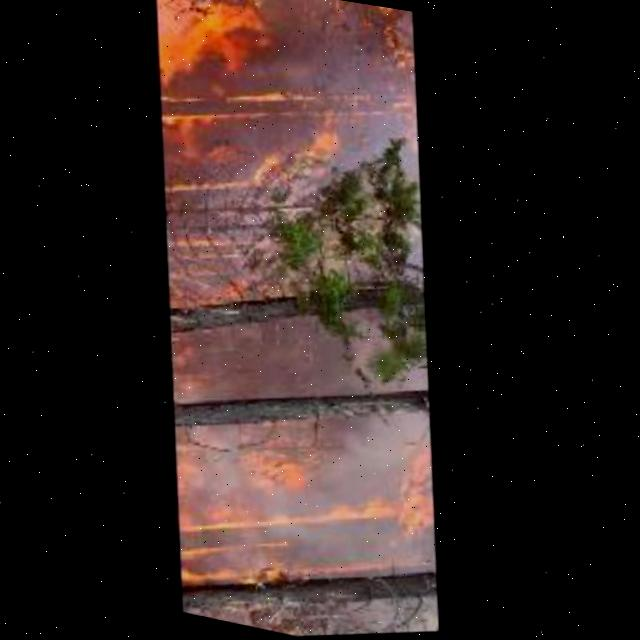fire: (133, 287, 491, 633), (105, 0, 463, 269)
